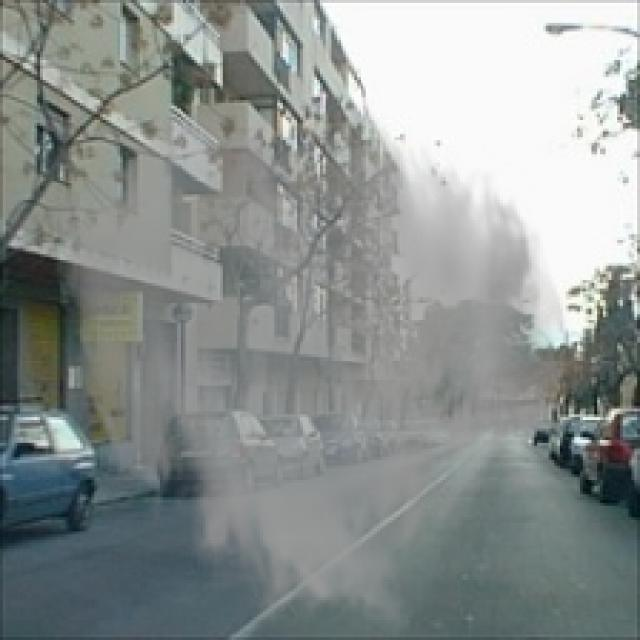smoke: (52, 100, 574, 637)
